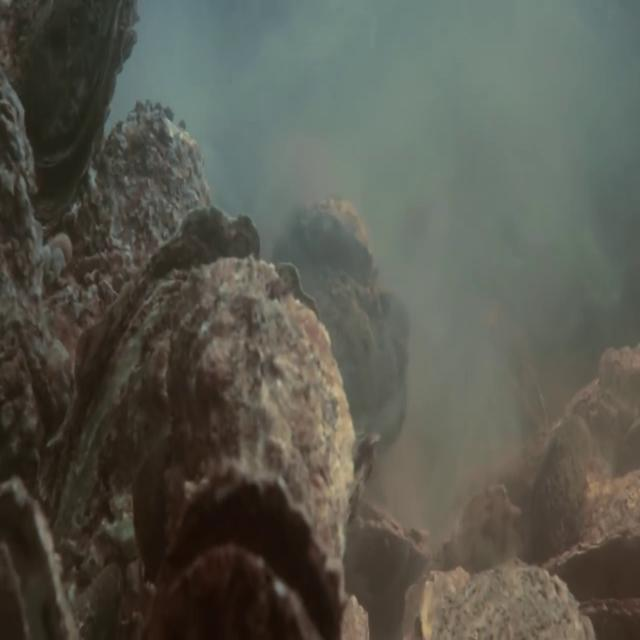Oyster-Closed: (43, 200, 264, 533), (546, 520, 639, 570), (581, 593, 638, 628)
Oyster-Indeterminate: (161, 251, 358, 562), (45, 97, 211, 359), (0, 0, 139, 222), (414, 557, 600, 639), (528, 415, 596, 550)
Oyster-Open: (149, 465, 355, 636)
